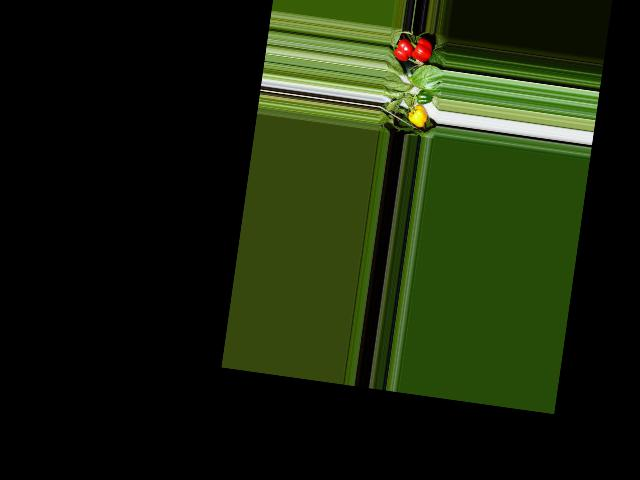bell_pepper: (406, 103, 430, 130)
